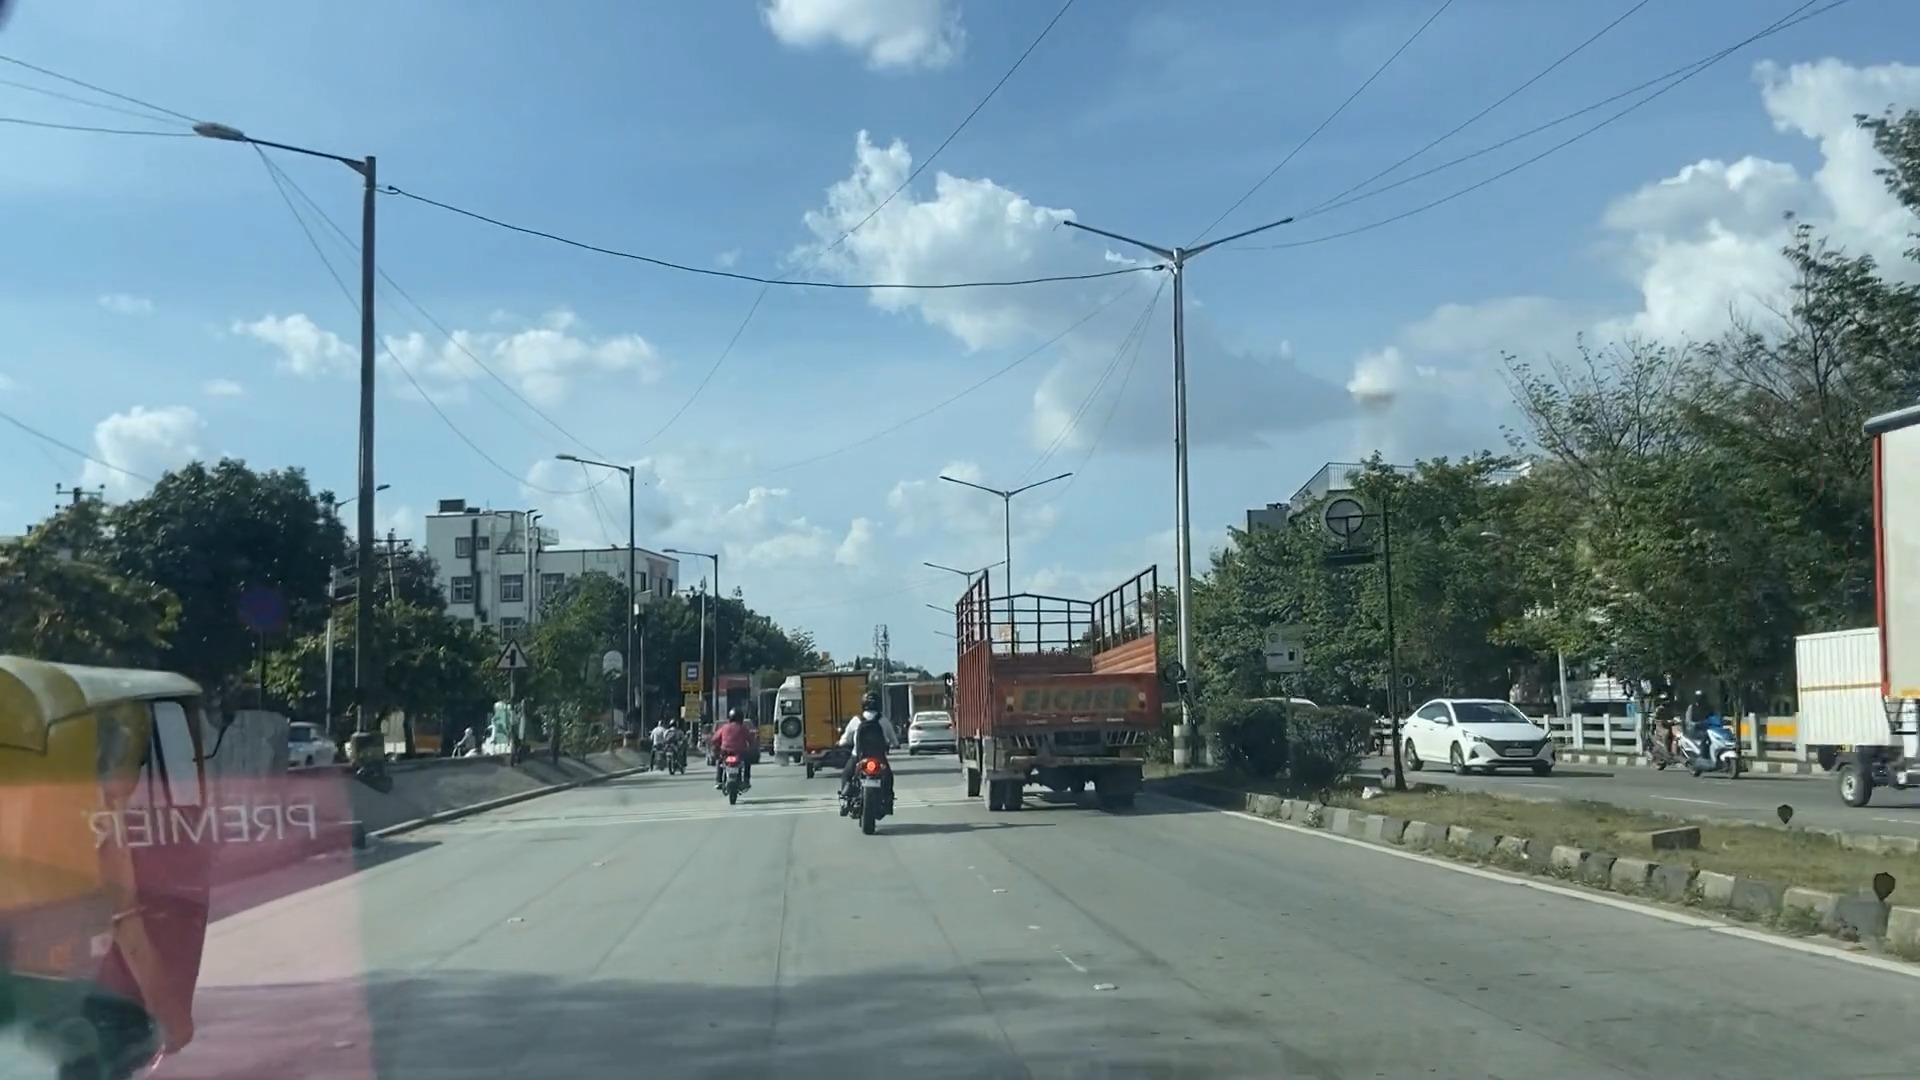HMV: (956, 574, 1161, 802)
LMV: (0, 662, 216, 1080), (820, 676, 900, 826)
